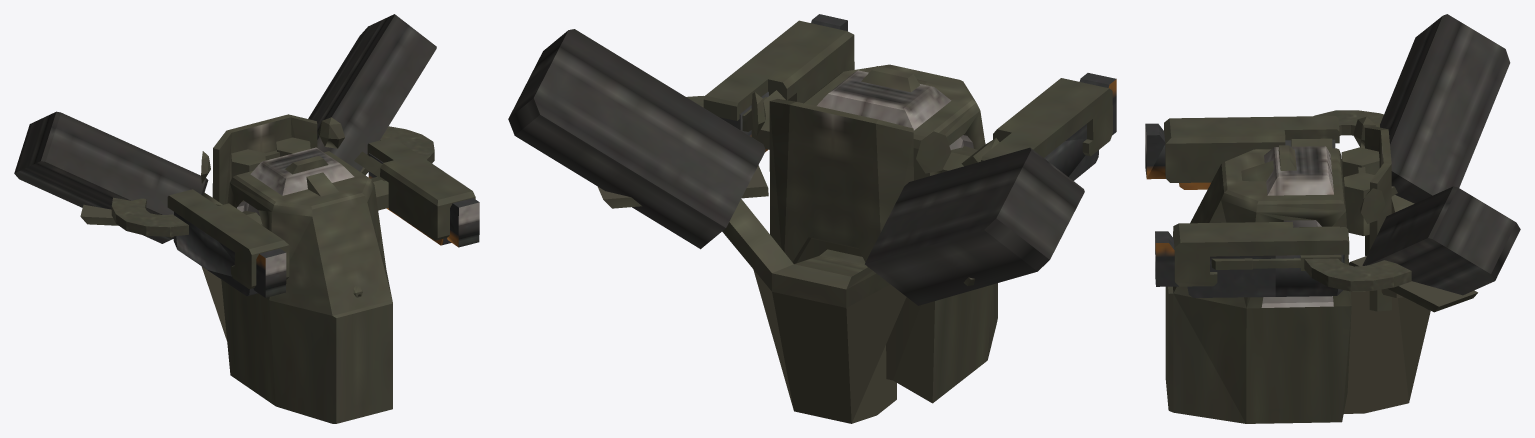
File: sentry_gun.dae
3 views of the same model, side by side, from view 1: azimuth 30°, elevation 25°; view 2: azimuth 150°, elevation 25°; view 3: azimuth 270°, elevation 25° (orthographic). The views are drawn at different scales.
Parts seen in each view (by area): view 1: sentry_gun; view 2: sentry_gun; view 3: sentry_gun.
Boxes of the visible parts, x1=… form: sentry_gun: x1=14, y1=14, x2=479, y2=423; sentry_gun: x1=508, y1=14, x2=1116, y2=423; sentry_gun: x1=1145, y1=14, x2=1520, y2=423.
Bounding box in the file's own units: 7.79 × 5.71 × 5.11.
